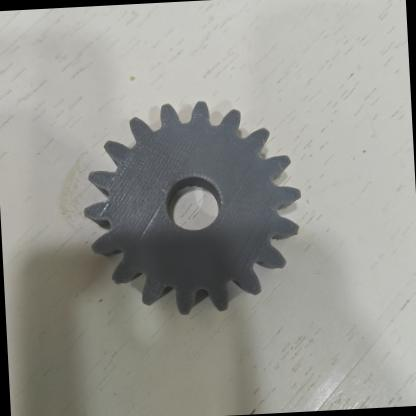gear: (79, 96, 306, 319)
